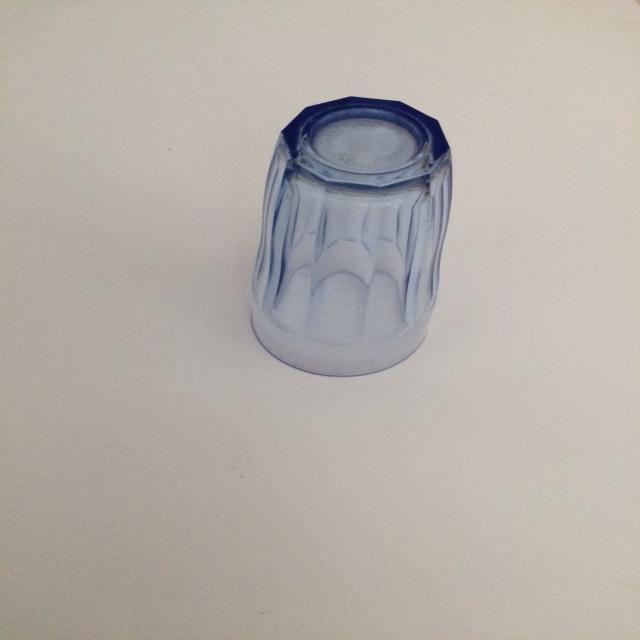glass: (248, 95, 452, 382)
